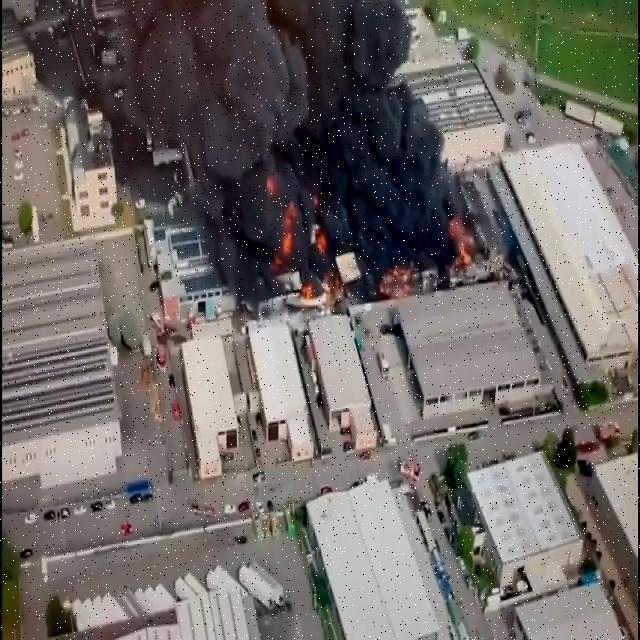smoke: (77, 0, 460, 191), (345, 198, 447, 306), (183, 194, 269, 310)
